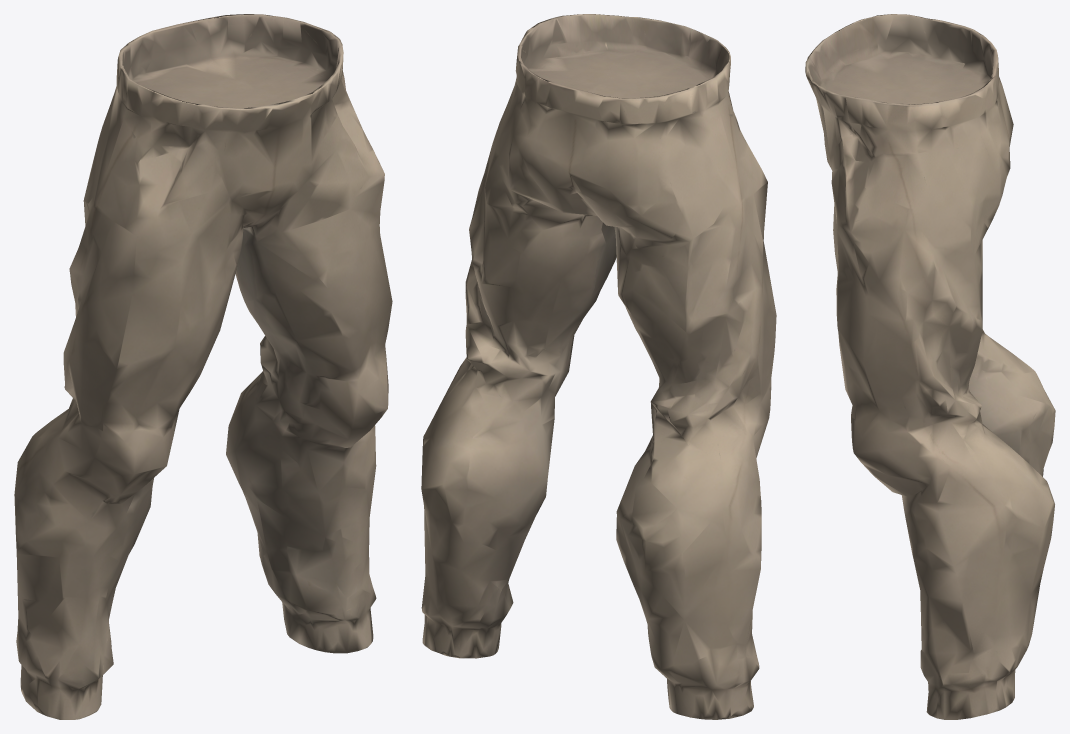
The model's file is trousers.glb.
3 views of the same model, side by side, from view 1: azimuth 30°, elevation 25°; view 2: azimuth 150°, elevation 25°; view 3: azimuth 270°, elevation 25° (orthographic). The views are drawn at different scales.
Parts seen in each view (by area): view 1: Module_fisherman_trousers_left_0; view 2: Module_fisherman_trousers_left_0; view 3: Module_fisherman_trousers_left_0.
Part boxes in pixels (<box>): Module_fisherman_trousers_left_0: <box>14,14,392,719</box>; Module_fisherman_trousers_left_0: <box>421,14,776,719</box>; Module_fisherman_trousers_left_0: <box>805,14,1055,719</box>.
Size of the model in its own units: 0.47 by 0.8141 by 0.3128.
Materials: 1 (1 with a texture image).
